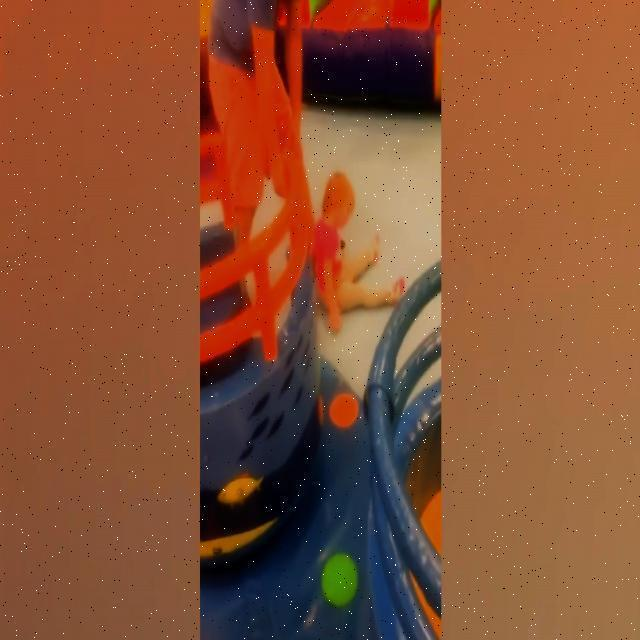child: (314, 165, 409, 328)
